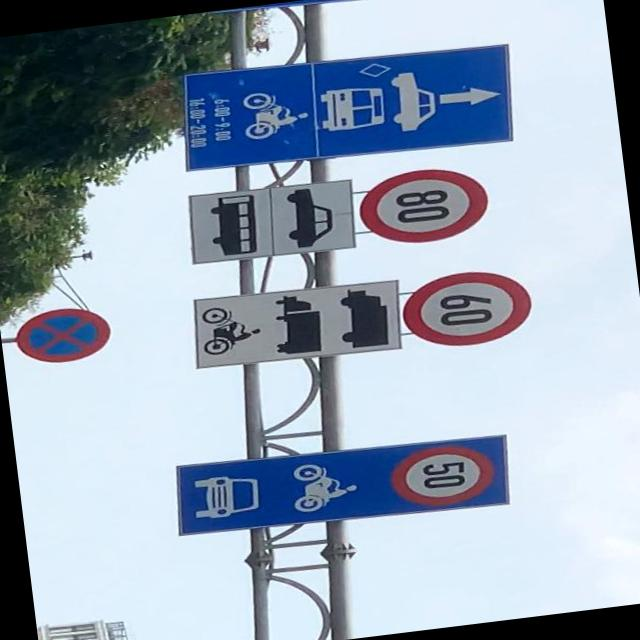P-127: (355, 160, 492, 251), (398, 263, 534, 351)
P-130: (12, 304, 112, 368)
